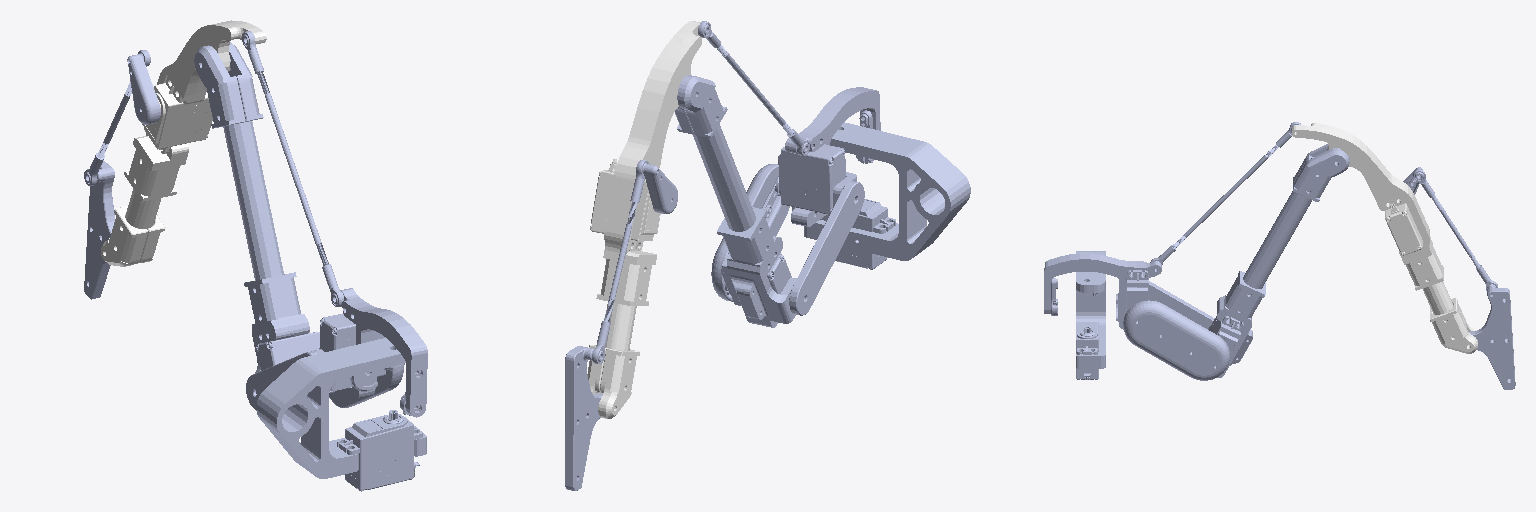
robot.urdf — URDP_v1:
<?xml version="1.0" encoding="utf-8"?>
<!-- This URDF was automatically created by SolidWorks to URDF Exporter! Originally created by [author] ([email redacted]) 
     Commit Version: 1.6.0-4-g7f85cfe  Build Version: 1.6.7995.38578
     For more information, please see http://wiki.ros.org/sw_urdf_exporter -->
<robot
  name="URDP_v1">

  <mujoco>
    <compiler meshdir="[local-path]\Documents\GitHub\Biped\CAD Tree\David's cardboard box\URDF_v1\URDP_v1\meshes" balanceinertia="true" discardvisual="false"/>
    <option gravity ="0 0 0" />
  </mujoco>

  <link
    name="base_link">
    <inertial>
      <origin
        xyz="-0.034803665629083 0.00239811335495027 0.0281065189819375"
        rpy="0 0 0" />
      <mass
        value="0.0832677381980081" />
      <inertia
        ixx="4.41957289040367E-05"
        ixy="-1.14144709833817E-06"
        ixz="2.14047951355779E-06"
        iyy="8.53491154294736E-05"
        iyz="9.73309590129318E-07"
        izz="4.95906329823693E-05" />
    </inertial>
    <visual>
      <origin
        xyz="0 0 0"
        rpy="0 0 0" />
      <geometry>
        <mesh
          filename="package://URDP_v1/meshes/base_link.STL" />
      </geometry>
      <material
        name="">
        <color
          rgba="0.792156862745098 0.819607843137255 0.933333333333333 1" />
      </material>
    </visual>
    <!--collision>
      <origin
        xyz="0 0 0"
        rpy="0 0 0" />
      <geometry>
      </geometry>
    </collision-->
  </link>
  <link
    name="Hip1">
    <inertial>
      <origin
        xyz="0.0116518126106317 0.000100400224812058 -0.000166389120435373"
        rpy="0 0 0" />
      <mass
        value="0.0510174247692632" />
      <inertia
        ixx="4.86516501370663E-06"
        ixy="2.70557298139423E-07"
        ixz="8.98544777547576E-07"
        iyy="1.26726780201137E-05"
        iyz="1.49480585254523E-07"
        izz="1.12868281472476E-05" />
    </inertial>
    <visual>
      <origin
        xyz="0 0 0"
        rpy="0 0 0" />
      <geometry>
        <mesh
          filename="package://URDP_v1/meshes/Hip1.STL" />
      </geometry>
      <material
        name="">
        <color
          rgba="0.792156862745098 0.819607843137255 0.933333333333333 1" />
      </material>
    </visual>
    <collision>
      <origin
        xyz="0 0 0"
        rpy="0 0 0" />
      <geometry>
        <mesh
          filename="package://URDP_v1/meshes/Hip1.STL" />
      </geometry>
    </collision>
  </link>
  <joint
    name="Hip1"
    type="revolute">
    <origin
      xyz="0 0 0.0479999999999985"
      rpy="0 0 3.14159265358979" />
    <parent
      link="base_link" />
    <child
      link="Hip1" />
    <axis
      xyz="0 0 1" />
    <limit
      lower="0"
      upper="0"
      effort="0"
      velocity="0" />
  </joint>
  <link
    name="Hip2">
    <inertial>
      <origin
        xyz="-0.0155712976088673 0.00178011041081028 0.00130109388992711"
        rpy="0 0 0" />
      <mass
        value="0.0544682948145358" />
      <inertia
        ixx="2.50443581418711E-05"
        ixy="-2.11202622540915E-06"
        ixz="-6.38040658528887E-06"
        iyy="3.82490342248561E-05"
        iyz="-1.92205672736036E-06"
        izz="1.83537203359063E-05" />
    </inertial>
    <visual>
      <origin
        xyz="0 0 0"
        rpy="0 0 0" />
      <geometry>
        <mesh
          filename="package://URDP_v1/meshes/Hip2.STL" />
      </geometry>
      <material
        name="">
        <color
          rgba="0.792156862745098 0.819607843137255 0.933333333333333 1" />
      </material>
    </visual>
    <collision>
      <origin
        xyz="0 0 0"
        rpy="0 0 0" />
      <geometry>
        <mesh
          filename="package://URDP_v1/meshes/Hip2.STL" />
      </geometry>
    </collision>
  </link>
  <joint
    name="Hip2"
    type="revolute">
    <origin
      xyz="0.00291999888621859 -0.027508609679584 0"
      rpy="1.57370500083132 1.5707963267949 0" />
    <parent
      link="Hip1" />
    <child
      link="Hip2" />
    <axis
      xyz="0 0 1" />
    <limit
      lower="0"
      upper="0"
      effort="0"
      velocity="0" />
  </joint>
  <link
    name="Thigh">
    <inertial>
      <origin
        xyz="0.040000000208936 1.24310284288498E-11 0.0189637069443161"
        rpy="0 0 0" />
      <mass
        value="0.0523742410124517" />
      <inertia
        ixx="7.26482326818653E-06"
        ixy="-3.07518443659517E-09"
        ixz="-1.64778110259487E-16"
        iyy="3.27731828344629E-05"
        iyz="4.75027723523236E-17"
        izz="3.91480189823507E-05" />
    </inertial>
    <visual>
      <origin
        xyz="0 0 0"
        rpy="0 0 0" />
      <geometry>
        <mesh
          filename="package://URDP_v1/meshes/Thigh.STL" />
      </geometry>
      <material
        name="">
        <color
          rgba="0.792156862745098 0.819607843137255 0.933333333333333 1" />
      </material>
    </visual>
    <collision>
      <origin
        xyz="0 0 0"
        rpy="0 0 0" />
      <geometry>
        <mesh
          filename="package://URDP_v1/meshes/Thigh.STL" />
      </geometry>
    </collision>
  </link>
  <joint
    name="Thigh"
    type="revolute">
    <origin
      xyz="-0.00169174158402435 0.00645275215802343 0.016000000000002"
      rpy="1.57079632679489 -1.00233552800899 0.0296041455695987" />
    <parent
      link="Hip2" />
    <child
      link="Thigh" />
    <axis
      xyz="0 0 -1" />
    <limit
      lower="0"
      upper="0"
      effort="0"
      velocity="0" />
  </joint>
  <link
    name="Foreleg">
    <inertial>
      <origin
        xyz="0.0688873856499814 0.000990462711047007 0.00114612899404556"
        rpy="0 0 0" />
      <mass
        value="0.0982589820261771" />
      <inertia
        ixx="8.86012061373025E-06"
        ixy="-4.57925868942747E-06"
        ixz="-1.48075610184833E-06"
        iyy="7.58306712031382E-05"
        iyz="2.36792403028871E-08"
        izz="8.02377100507431E-05" />
    </inertial>
    <visual>
      <origin
        xyz="0 0 0"
        rpy="0 0 0" />
      <geometry>
        <mesh
          filename="package://URDP_v1/meshes/Foreleg.STL" />
      </geometry>
      <material
        name="">
        <color
          rgba="0.792156862745098 0.819607843137255 0.933333333333333 1" />
      </material>
    </visual>
    <collision>
      <origin
        xyz="0 0 0"
        rpy="0 0 0" />
      <geometry>
        <mesh
          filename="package://URDP_v1/meshes/Foreleg.STL" />
      </geometry>
    </collision>
  </link>
  <joint
    name="Foreleg"
    type="revolute">
    <origin
      xyz="0.0800000000000005 0 0"
      rpy="0 0 1.62209659499727" />
    <parent
      link="Thigh" />
    <child
      link="Foreleg" />
    <axis
      xyz="0 0 -1" />
    <limit
      lower="0"
      upper="0"
      effort="0"
      velocity="0" />
  </joint>
  <link
    name="Shin">
    <inertial>
      <origin
        xyz="0.0916128996301526 -0.0109521905991159 -0.00341956270454538"
        rpy="0 0 0" />
      <mass
        value="0.101694233294101" />
      <inertia
        ixx="1.01516759974951E-05"
        ixy="2.2204641192754E-06"
        ixz="2.33988825312875E-06"
        iyy="0.000124126098251688"
        iyz="7.12266749529461E-08"
        izz="0.000130107688368075" />
    </inertial>
    <visual>
      <origin
        xyz="0 0 0"
        rpy="0 0 0" />
      <geometry>
        <mesh
          filename="package://URDP_v1/meshes/Shin.STL" />
      </geometry>
      <material
        name="">
        <color
          rgba="1 1 1 1" />
      </material>
    </visual>
    <collision>
      <origin
        xyz="0 0 0"
        rpy="0 0 0" />
      <geometry>
        <mesh
          filename="package://URDP_v1/meshes/Shin.STL" />
      </geometry>
    </collision>
  </link>
  <joint
    name="Shin"
    type="revolute">
    <origin
      xyz="0.211462065139038 0 0"
      rpy="-3.14159265358979 0 -2.05348880994447" />
    <parent
      link="Foreleg" />
    <child
      link="Shin" />
    <axis
      xyz="0 0 -1" />
    <limit
      lower="0"
      upper="0"
      effort="0"
      velocity="0" />
  </joint>
  <link
    name="Foot">
    <inertial>
      <origin
        xyz="0.0141674318168209 -0.0201226826332975 9.61230456462403E-05"
        rpy="0 0 0" />
      <mass
        value="0.0150022339024416" />
      <inertia
        ixx="4.40610915149231E-06"
        ixy="-3.43921576415037E-06"
        ixz="4.81980236131634E-08"
        iyy="5.69585889813143E-06"
        iyz="3.66466005351332E-08"
        izz="9.96343325503536E-06" />
    </inertial>
    <visual>
      <origin
        xyz="0 0 0"
        rpy="0 0 0" />
      <geometry>
        <mesh
          filename="package://URDP_v1/meshes/Foot.STL" />
      </geometry>
      <material
        name="">
        <color
          rgba="0.792156862745098 0.819607843137255 0.933333333333333 1" />
      </material>
    </visual>
    <collision>
      <origin
        xyz="0 0 0"
        rpy="0 0 0" />
      <geometry>
        <mesh
          filename="package://URDP_v1/meshes/Foot.STL" />
      </geometry>
    </collision>
  </link>
  <joint
    name="Foot"
    type="revolute">
    <origin
      xyz="0.210793878641788 0 0"
      rpy="0 0 -0.184475144040257" />
    <parent
      link="Shin" />
    <child
      link="Foot" />
    <axis
      xyz="0 0 1" />
    <limit
      lower="0"
      upper="0"
      effort="0"
      velocity="0" />
  </joint>
  <link
    name="Calf_arm">
    <inertial>
      <origin
        xyz="0.00881538902341106 -5.49195786070378E-07 0.00422480580938491"
        rpy="0 0 0" />
      <mass
        value="0.00424737722691909" />
      <inertia
        ixx="1.10273581517289E-07"
        ixy="1.53709148425184E-09"
        ixz="-8.573945094006E-10"
        iyy="5.98396766450953E-07"
        iyz="-2.26021742547605E-11"
        izz="6.64958804433703E-07" />
    </inertial>
    <visual>
      <origin
        xyz="0 0 0"
        rpy="0 0 0" />
      <geometry>
        <mesh
          filename="package://URDP_v1/meshes/Calf_arm.STL" />
      </geometry>
      <material
        name="">
        <color
          rgba="0.792156862745098 0.819607843137255 0.933333333333333 1" />
      </material>
    </visual>
    <collision>
      <origin
        xyz="0 0 0"
        rpy="0 0 0" />
      <geometry>
        <mesh
          filename="package://URDP_v1/meshes/Calf_arm.STL" />
      </geometry>
    </collision>
  </link>
  <joint
    name="Calf_arm"
    type="revolute">
    <origin
      xyz="0.0722742073234425 -0.0181017087278485 0.0240000000000011"
      rpy="3.14159265358979 0 -2.01095909772797" />
    <parent
      link="Shin" />
    <child
      link="Calf_arm" />
    <axis
      xyz="0 0 -1" />
    <limit
      lower="0"
      upper="0"
      effort="0"
      velocity="0" />
  </joint>
  <link
    name="Calf_Link">
    <inertial>
      <origin
        xyz="0.062500578740133 1.94212954329753E-08 -0.00200013079890936"
        rpy="0 0 0" />
      <mass
        value="0.00251539645865265" />
      <inertia
        ixx="1.20234515785088E-08"
        ixy="-1.09289710427895E-12"
        ixz="1.16691939601623E-12"
        iyy="9.16020132399015E-07"
        iyz="6.55359740986884E-14"
        izz="9.20342981411072E-07" />
    </inertial>
    <visual>
      <origin
        xyz="0 0 0"
        rpy="0 0 0" />
      <geometry>
        <mesh
          filename="package://URDP_v1/meshes/Calf_Link.STL" />
      </geometry>
      <material
        name="">
        <color
          rgba="0.792156862745098 0.819607843137255 0.933333333333333 1" />
      </material>
    </visual>
    <collision>
      <origin
        xyz="0 0 0"
        rpy="0 0 0" />
      <geometry>
        <mesh
          filename="package://URDP_v1/meshes/Calf_Link.STL" />
      </geometry>
    </collision>
  </link>
  <joint
    name="Calf_Link"
    type="revolute">
    <origin
      xyz="0.0319999999999999 0 0.00945000000000017"
      rpy="-3.14159265358978 0 -2.05757527134505" />
    <parent
      link="Calf_arm" />
    <child
      link="Calf_Link" />
    <axis
      xyz="0 0 -1" />
    <limit
      lower="0"
      upper="0"
      effort="0"
      velocity="0" />
  </joint>
  <link
    name="Linkage_1">
    <inertial>
      <origin
        xyz="1.33361144145222E-07 -0.00245000755707746 0.0894803593680583"
        rpy="0 0 0" />
      <mass
        value="0.00319260971085254" />
      <inertia
        ixx="3.31936493137546E-06"
        ixy="9.72148410100661E-13"
        ixz="-2.04752662282802E-11"
        iyy="3.32368778169552E-06"
        iyz="8.85648267952026E-12"
        izz="1.33749228878975E-08" />
    </inertial>
    <visual>
      <origin
        xyz="0 0 0"
        rpy="0 0 0" />
      <geometry>
        <mesh
          filename="package://URDP_v1/meshes/Linkage_1.STL" />
      </geometry>
      <material
        name="">
        <color
          rgba="0.792156862745098 0.819607843137255 0.933333333333333 1" />
      </material>
    </visual>
    <collision>
      <origin
        xyz="0 0 0"
        rpy="0 0 0" />
      <geometry>
        <mesh
          filename="package://URDP_v1/meshes/Linkage_1.STL" />
      </geometry>
    </collision>
  </link>
  <joint
    name="Linkage_1"
    type="revolute">
    <origin
      xyz="-0.0391068889874712 0.00134303154155405 0.0320000000000015"
      rpy="0 0.831075448247001 -3.1119885080202" />
    <parent
      link="Hip2" />
    <child
      link="Linkage_1" />
    <axis
      xyz="0 -1 0" />
    <limit
      lower="0"
      upper="0"
      effort="0"
      velocity="0" />
  </joint>
</robot>

--- Render facts (derived) ---
Views: 3 orthographic renders of the robot side by side, from view 1: azimuth 30°, elevation 25°; view 2: azimuth 150°, elevation 25°; view 3: azimuth 270°, elevation 25°.
Model URDP_v1 with 10 links and 9 joints (9 revolute), rooted at base_link, posed all joints at 0.
Visible links, largest first — view 1: base_link, Foreleg, Shin, Hip2, Foot, Linkage_1, Thigh, Calf_arm, Calf_Link; view 2: Shin, Foreleg, base_link, Hip2, Thigh, Foot, Calf_Link, Linkage_1, Calf_arm; view 3: Shin, Foreleg, Thigh, Hip2, base_link, Foot, Linkage_1, Calf_Link.
Link boxes in pixels (left/top/right/bottom): base_link: left=256, top=338, right=426, bottom=491; Foreleg: left=194, top=42, right=333, bottom=392; Shin: left=101, top=20, right=266, bottom=266; Hip2: left=314, top=288, right=427, bottom=417; Foot: left=84, top=160, right=114, bottom=299; Linkage_1: left=242, top=31, right=343, bottom=306; Thigh: left=246, top=351, right=404, bottom=409; Calf_arm: left=127, top=54, right=160, bottom=124; Calf_Link: left=84, top=50, right=150, bottom=185; Shin: left=587, top=21, right=701, bottom=418; Foreleg: left=675, top=75, right=796, bottom=327; base_link: left=804, top=122, right=970, bottom=269; Hip2: left=778, top=87, right=880, bottom=226; Thigh: left=711, top=164, right=864, bottom=315; Foot: left=565, top=346, right=602, bottom=490; Calf_Link: left=592, top=160, right=648, bottom=363; Linkage_1: left=698, top=21, right=809, bottom=155; Calf_arm: left=643, top=164, right=677, bottom=213; Shin: left=1291, top=123, right=1477, bottom=353; Foreleg: left=1208, top=144, right=1349, bottom=377; Thigh: left=1123, top=281, right=1229, bottom=380; Hip2: left=1044, top=253, right=1161, bottom=329; base_link: left=1076, top=251, right=1105, bottom=379; Foot: left=1469, top=286, right=1515, bottom=389; Linkage_1: left=1150, top=122, right=1300, bottom=264; Calf_Link: left=1413, top=169, right=1497, bottom=290.
Size in the robot's own frame: 0.1216 by 0.4067 by 0.2582 metres.
9 mesh visuals loaded from 10 distinct referenced files (9 binary STL); not drawn: 1 (reference not matched to a file when rendering).
